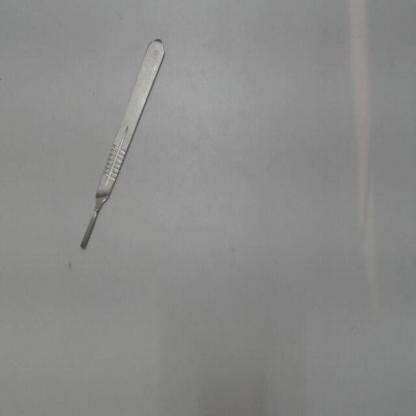No.4 BP Handle: (71, 24, 177, 261)
